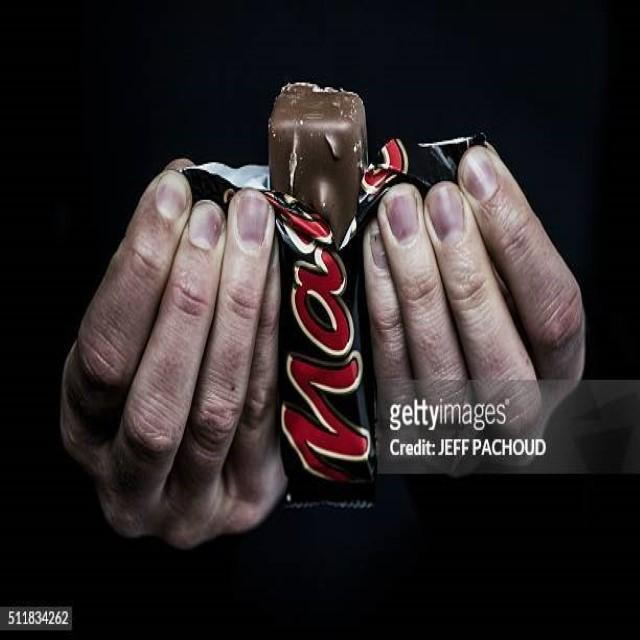mars_chocolate: (267, 167, 395, 475)
